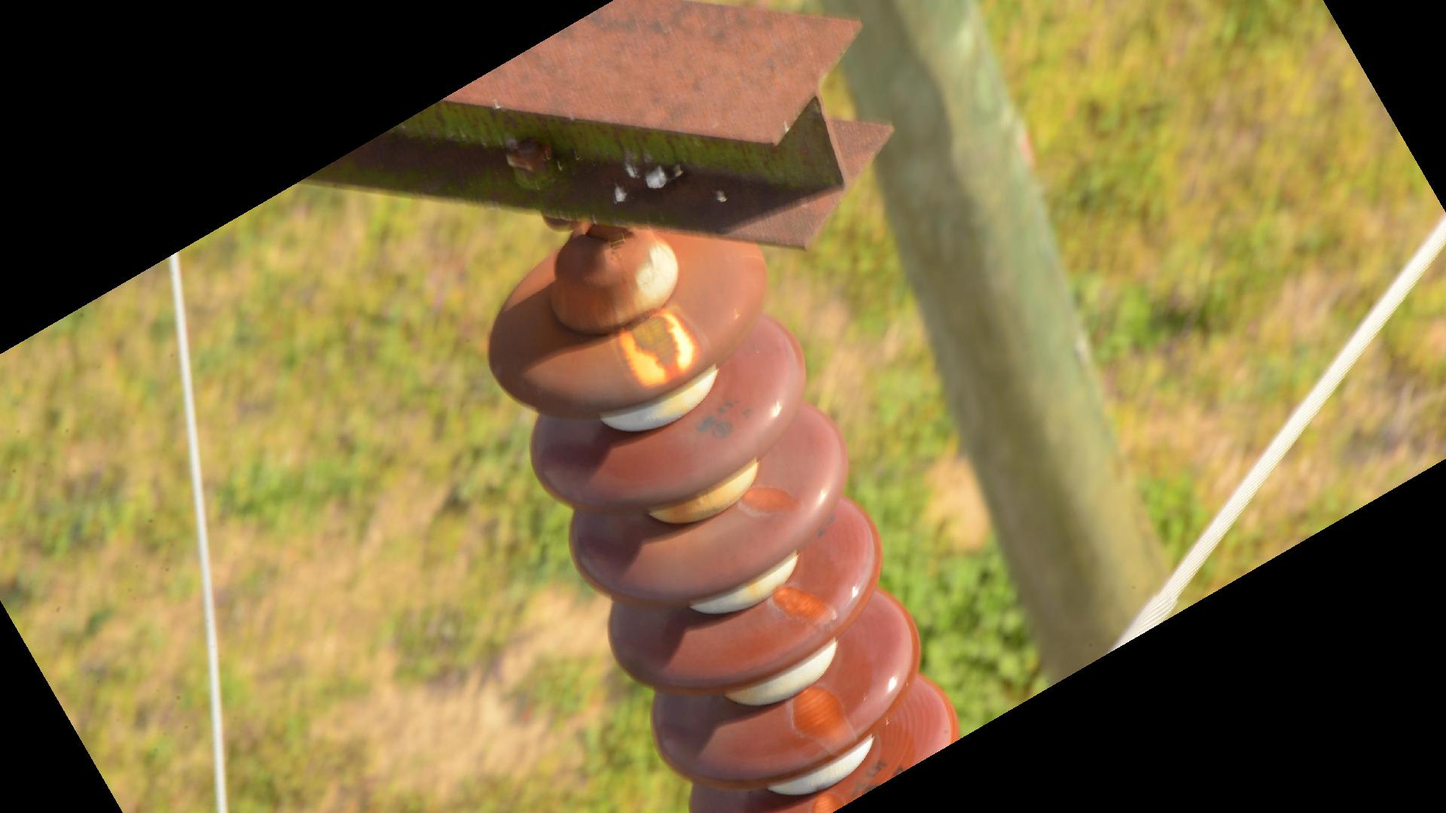insulator: (480, 219, 966, 813)
insulator_flashover: (613, 300, 705, 391), (786, 680, 859, 756), (770, 580, 839, 632), (737, 482, 801, 522)
